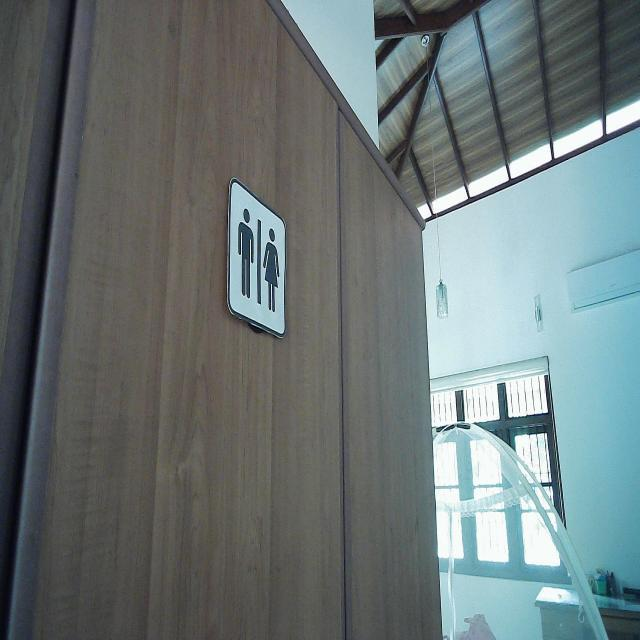restroom: (226, 172, 290, 342)
